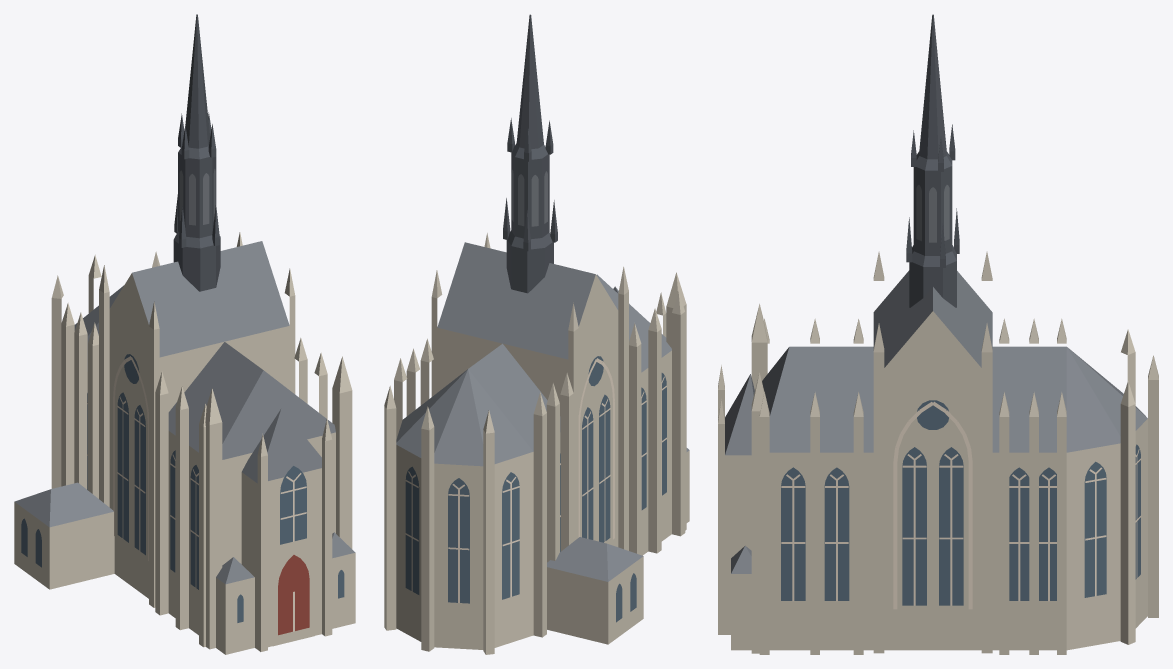
The model's file is pit-heinz-chapel.glb.
The picture shows the model from 3 angles, left to right: view 1: azimuth 30°, elevation 25°; view 2: azimuth 150°, elevation 25°; view 3: azimuth 270°, elevation 25°; orthographic projection. The views are drawn at different scales.
Parts seen in each view (by area): view 1: Heinz Memorial Chapel; view 2: Heinz Memorial Chapel; view 3: Heinz Memorial Chapel.
Part boxes in pixels (bbox=[...]): Heinz Memorial Chapel: bbox=[14, 14, 355, 654]; Heinz Memorial Chapel: bbox=[384, 14, 689, 654]; Heinz Memorial Chapel: bbox=[718, 14, 1158, 654].
Size of the model in its own units: 25.74 by 67 by 44.5.
